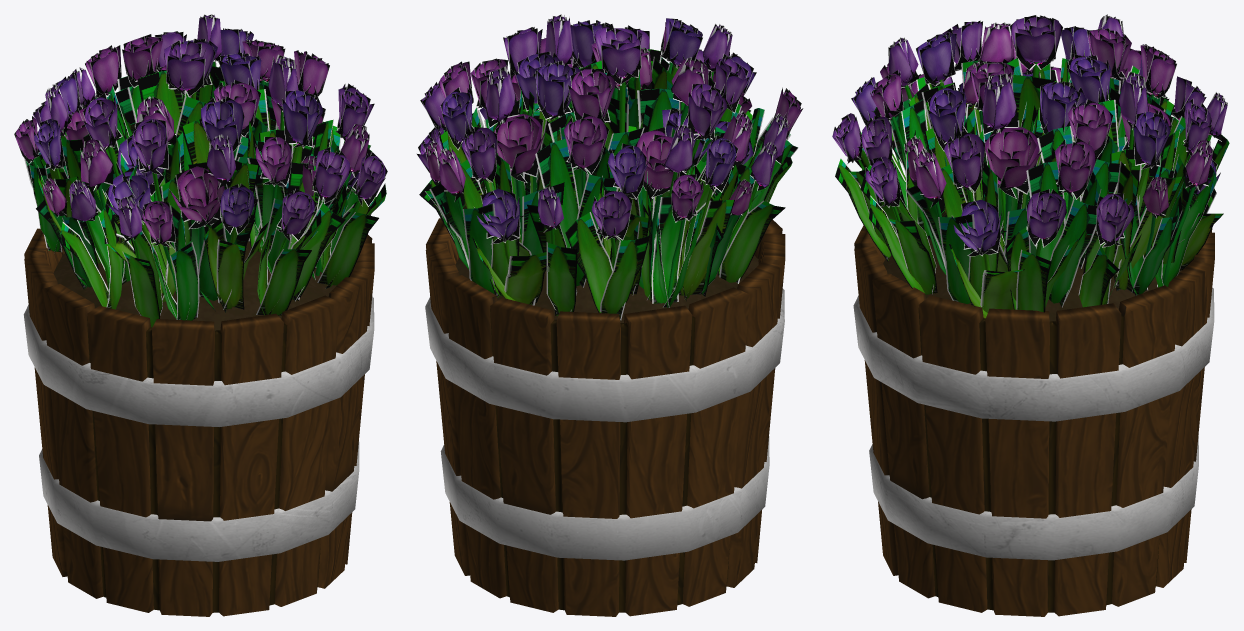
Rendered from obj_flowerbarrel_with_tulips_e0aee5.glb.
3 renders of one model, left to right at view 1: azimuth 30°, elevation 25°; view 2: azimuth 150°, elevation 25°; view 3: azimuth 270°, elevation 25°, orthographic. The views are drawn at different scales.
Parts seen in each view (by area): view 1: obj_flowerbarrel_with_tulips_e0aee5; view 2: obj_flowerbarrel_with_tulips_e0aee5; view 3: obj_flowerbarrel_with_tulips_e0aee5.
Boxes of the visible parts, <box> form: obj_flowerbarrel_with_tulips_e0aee5: <box>14,14,387,616</box>; obj_flowerbarrel_with_tulips_e0aee5: <box>416,14,803,616</box>; obj_flowerbarrel_with_tulips_e0aee5: <box>832,14,1229,616</box>.
Size of the model in its own units: 0.2705 by 0.4 by 0.2743.
Materials: 5 (5 with a texture image).
